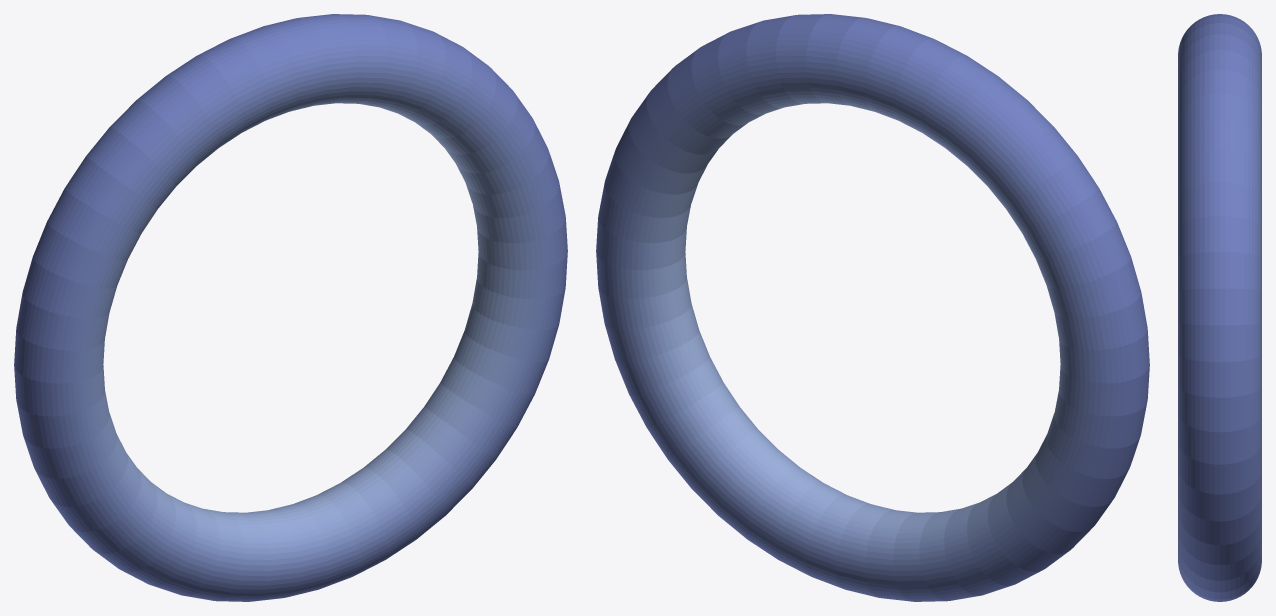
3 renders of one model, left to right at view 1: azimuth 30°, elevation 25°; view 2: azimuth 150°, elevation 25°; view 3: azimuth 270°, elevation 25°, orthographic. The views are drawn at different scales.
Parts seen in each view (by area): view 1: world; view 2: world; view 3: world.
Part boxes in pixels (x1,y1,x2,y2): world: (14, 14, 567, 601); world: (596, 14, 1149, 601); world: (1178, 14, 1261, 601).
Size of the model in its own units: 23.33 by 23.29 by 3.33.
